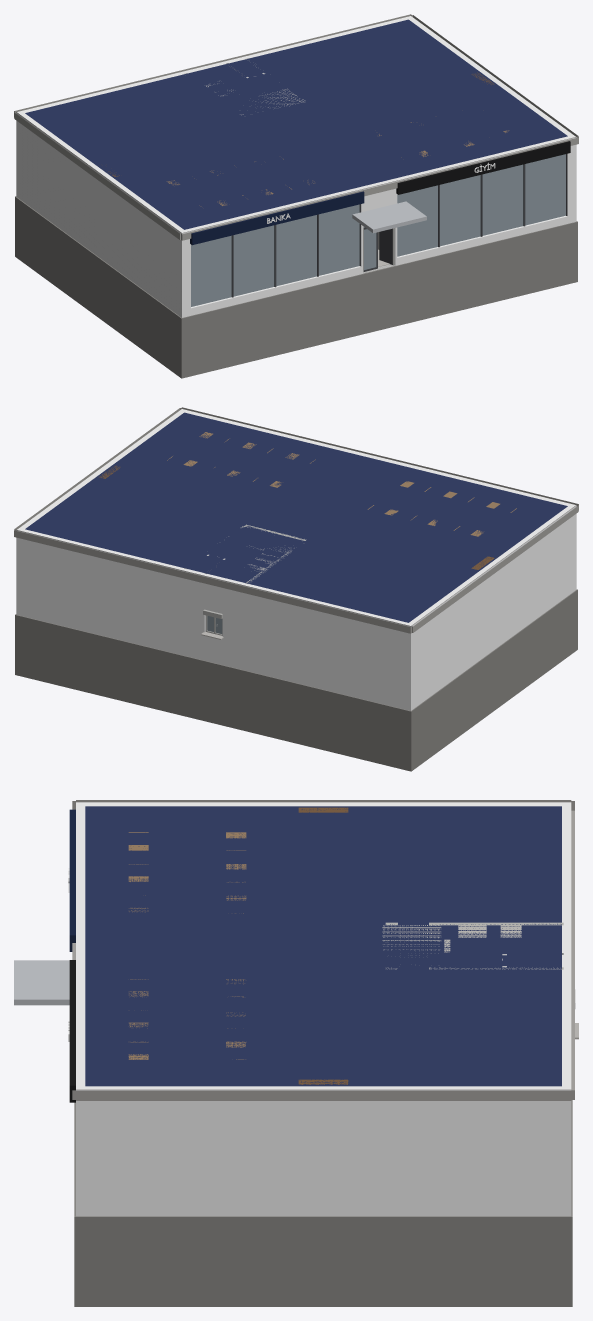
Rendered from bina_14_ic.glb.
The picture shows the model from 3 angles, top to bottom: view 1: azimuth 30°, elevation 25°; view 2: azimuth 150°, elevation 25°; view 3: azimuth 270°, elevation 25°; orthographic projection. The views are drawn at different scales.
Visible parts, largest first — view 1: P14_ic; view 2: P14_ic; view 3: P14_ic.
Boxes of the visible parts, x1,y1,x2,y2 form: P14_ic: (14, 14, 578, 378); P14_ic: (14, 407, 578, 771); P14_ic: (14, 800, 578, 1306).
Bounding box in the file's own units: 22.24 × 7.72 × 18.25.
